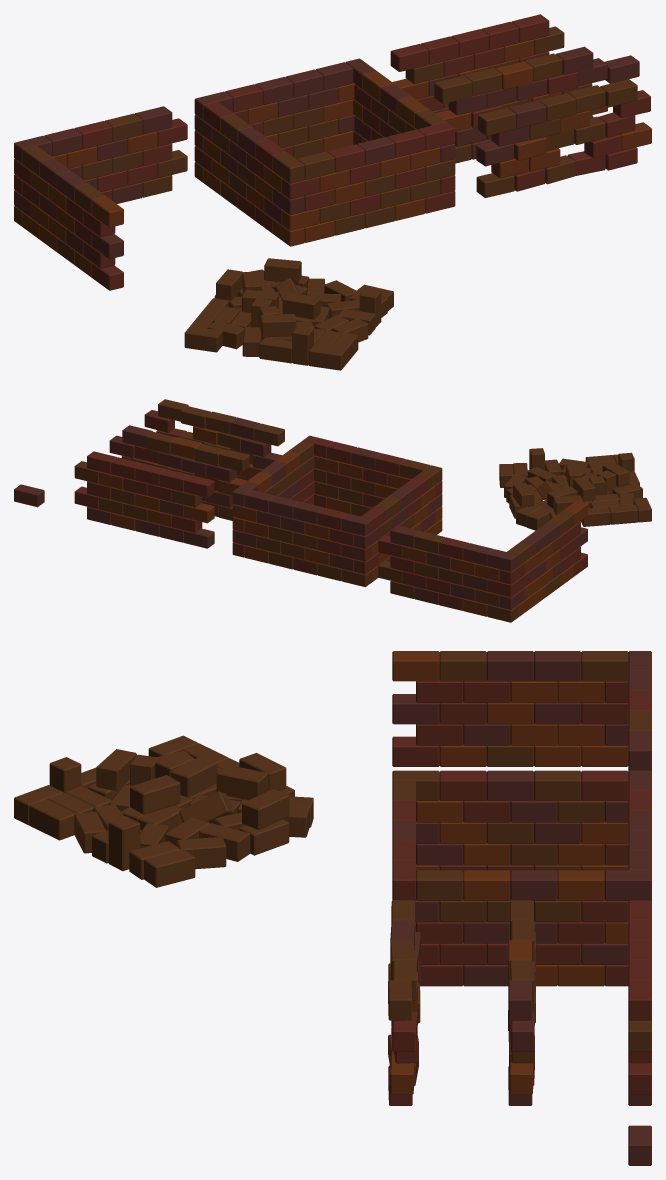
The model's file is Low-PolyBrickWalls.fbx.
The picture shows the model from 3 angles, top to bottom: view 1: azimuth 30°, elevation 25°; view 2: azimuth 150°, elevation 25°; view 3: azimuth 270°, elevation 25°; orthographic projection. The views are drawn at different scales.
Parts seen in each view (by area): view 1: Cube.477, Cube.445, Cube.325, Cube.217, Cube.262, Cube.279, Cube.307, Cube.420, Cube.378, Cube.353, Cube.396; view 2: Cube.378, Cube.279, Cube.477, Cube.217, Cube.325, Cube.262, Cube.420, Cube.445, Cube.307, Cube.353, Cube.396, Cube.219; view 3: Cube.477, Cube.262, Cube.353, Cube.307, Cube.445, Cube.420, Cube.378, Cube.325, Cube.217, Cube.279, Cube.396.
Boxes of the visible parts, left/top/right/bottom form: Cube.477: left=184, top=258, right=393, bottom=370; Cube.445: left=476, top=79, right=651, bottom=197; Cube.325: left=281, top=122, right=455, bottom=242; Cube.217: left=14, top=106, right=187, bottom=226; Cube.262: left=14, top=145, right=123, bottom=290; Cube.279: left=194, top=62, right=354, bottom=182; Cube.307: left=194, top=101, right=304, bottom=246; Cube.420: left=434, top=46, right=607, bottom=163; Cube.378: left=390, top=14, right=564, bottom=113; Cube.353: left=345, top=58, right=455, bottom=193; Cube.396: left=604, top=55, right=639, bottom=83; Cube.378: left=74, top=451, right=214, bottom=548; Cube.279: left=232, top=490, right=372, bottom=587; Cube.477: left=499, top=448, right=651, bottom=530; Cube.217: left=378, top=525, right=517, bottom=622; Cube.325: left=303, top=435, right=442, bottom=522; Cube.262: left=499, top=500, right=587, bottom=617; Cube.420: left=109, top=425, right=249, bottom=520; Cube.445: left=144, top=399, right=284, bottom=480; Cube.307: left=354, top=465, right=442, bottom=581; Cube.353: left=232, top=440, right=314, bottom=557; Cube.396: left=14, top=484, right=44, bottom=507; Cube.219: left=475, top=563, right=499, bottom=581; Cube.477: left=14, top=735, right=313, bottom=887; Cube.262: left=392, top=651, right=628, bottom=766; Cube.353: left=392, top=870, right=651, bottom=986; Cube.307: left=392, top=770, right=628, bottom=871; Cube.445: left=388, top=900, right=420, bottom=1105; Cube.420: left=508, top=900, right=536, bottom=1105; Cube.378: left=628, top=900, right=651, bottom=1105; Cube.325: left=392, top=780, right=415, bottom=931; Cube.217: left=628, top=651, right=651, bottom=771; Cube.279: left=628, top=770, right=651, bottom=900; Cube.396: left=628, top=1125, right=651, bottom=1165.
Size of the model in its own units: 822 by 102 by 541.
